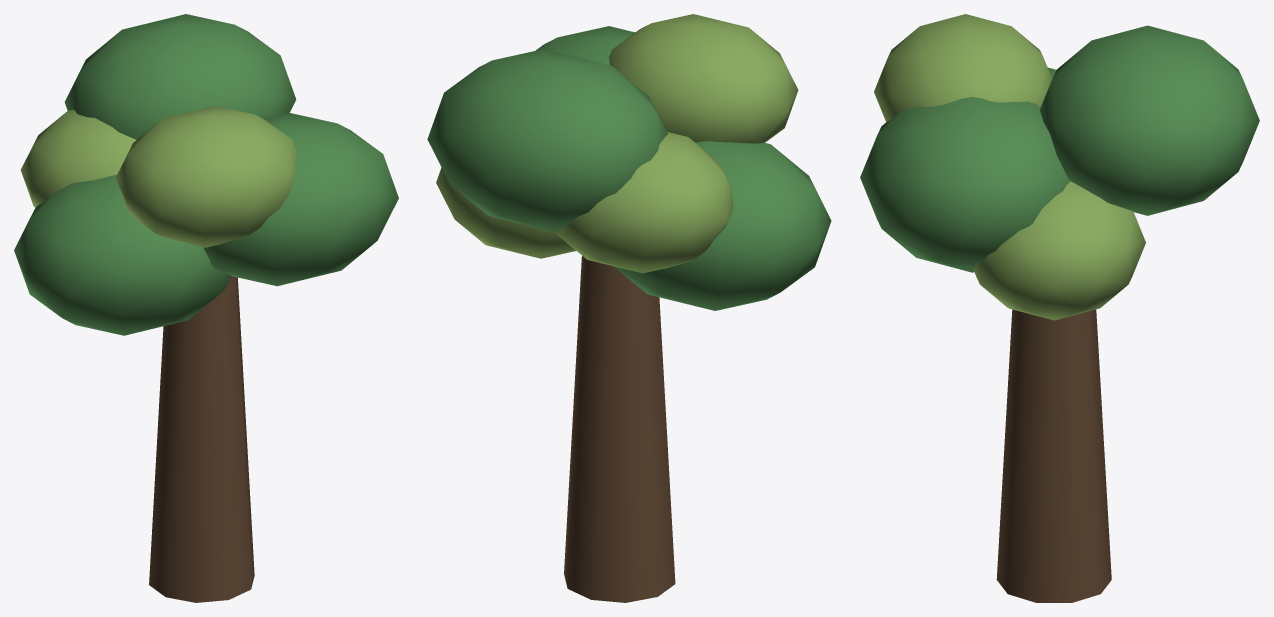
Rendered from whisper_birch_cluster.glb.
3 views of the same model, side by side, from view 1: azimuth 30°, elevation 25°; view 2: azimuth 150°, elevation 25°; view 3: azimuth 270°, elevation 25° (orthographic). The views are drawn at different scales.
Parts seen in each view (by area): view 1: trunk, crown_3, crown_2, crown_5, crown_1, crown_4; view 2: trunk, crown_5, crown_3, crown_2, crown_4, crown_0, crown_1; view 3: crown_5, trunk, crown_1, crown_0, crown_2.
Part boxes in pixels (x1,y1,x2,y2): trunk: [149, 276, 254, 602]; crown_3: [14, 175, 231, 335]; crown_2: [115, 106, 296, 247]; crown_5: [64, 14, 296, 139]; crown_1: [203, 112, 398, 286]; crown_4: [20, 109, 136, 207]; trunk: [564, 256, 675, 602]; crown_5: [427, 49, 667, 232]; crown_3: [614, 141, 831, 310]; crown_2: [609, 14, 798, 143]; crown_4: [555, 132, 733, 273]; crown_0: [436, 167, 575, 258]; crown_1: [535, 26, 634, 64]; crown_5: [1040, 25, 1259, 215]; trunk: [996, 309, 1111, 602]; crown_1: [860, 97, 1070, 272]; crown_0: [973, 181, 1145, 320]; crown_2: [874, 14, 1051, 122].
Size of what is drawn, in the model's own units: 4.59 by 6.53 by 4.31.
